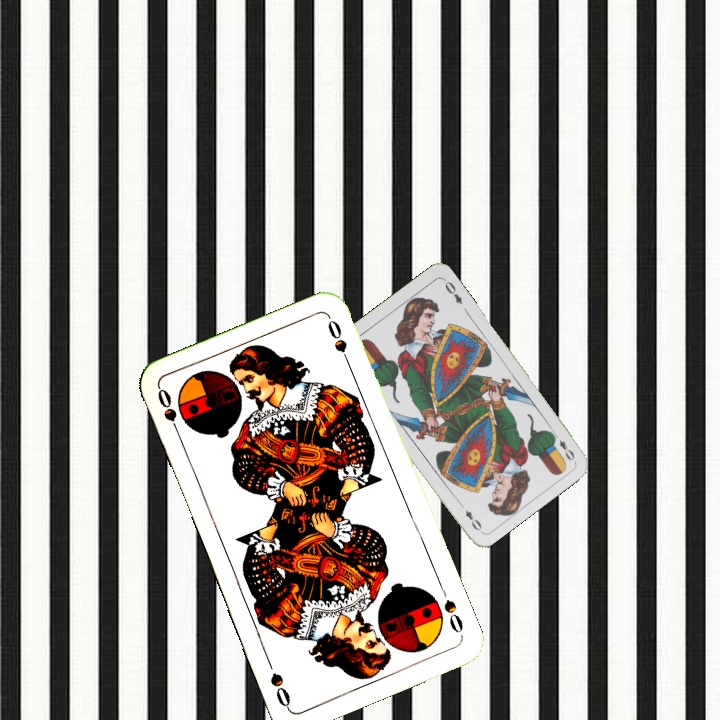EO: (548, 428, 578, 463)
SO: (153, 384, 184, 441), (436, 582, 466, 639)
